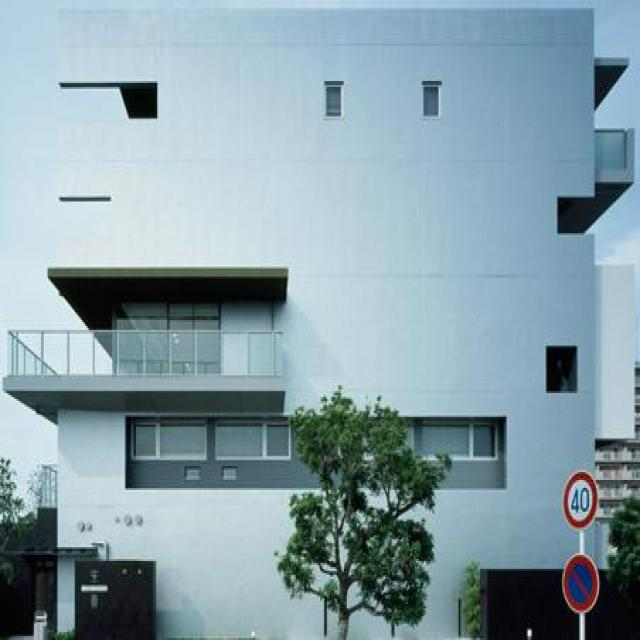railing: (9, 331, 283, 374), (594, 129, 626, 168)
window: (115, 298, 218, 330), (133, 423, 215, 457), (421, 425, 497, 457), (216, 424, 288, 456), (325, 86, 340, 114), (423, 87, 437, 114)
